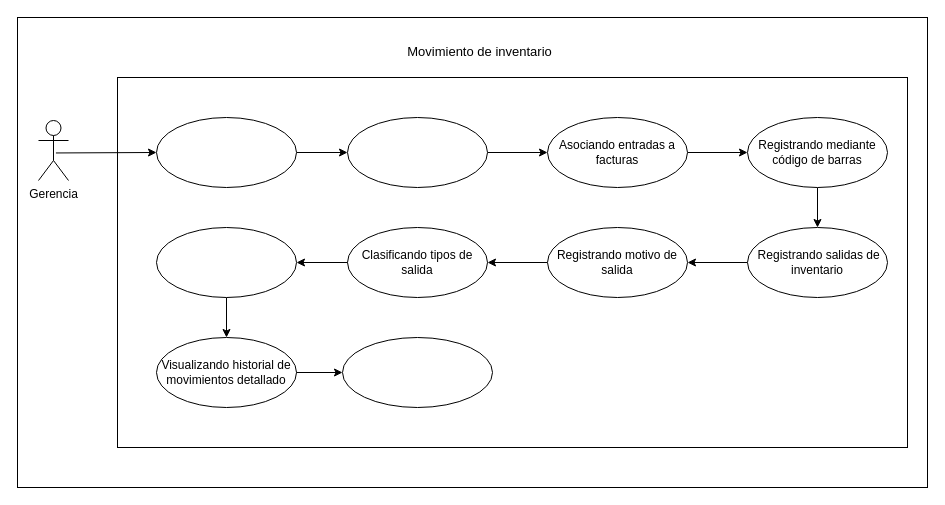
The diagram is 945 pixels wide and 505 high, and some of its shapes have lost their labels. The box of each missing label's shape, as (x1, y1, x2, y2) in pixels:
Ejecutando conteo cíclico de inventario: (342, 336, 492, 408)
Registrando entradas de inventario: (156, 116, 296, 188)
Registrando proveedor en entrada: (346, 116, 488, 188)
Trazando responsable de movimiento: (156, 226, 296, 298)
